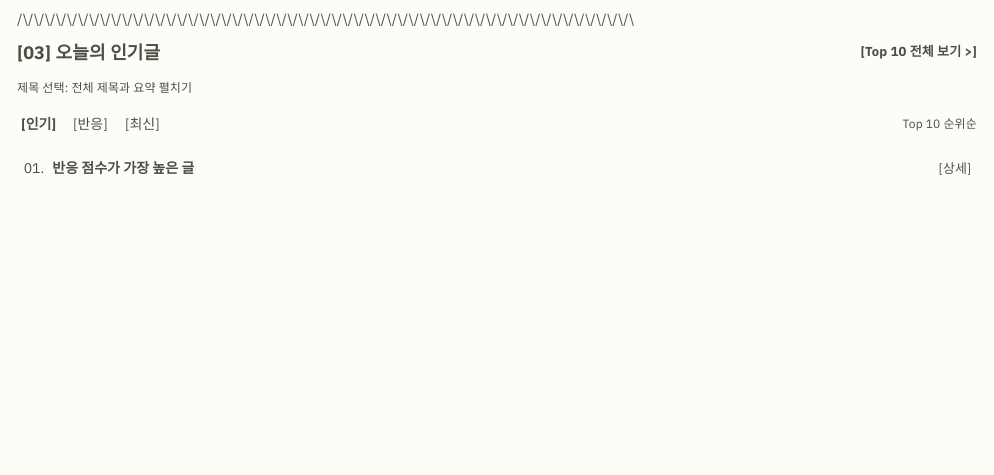
Test: TrendingPostFeed › uses a text-only preview even when a thumbnail is available
The image size is (994, 475).
Click the button "01. 반응 점수가 가장 높은 글".
click(123, 168)  # box [17,146,925,190]
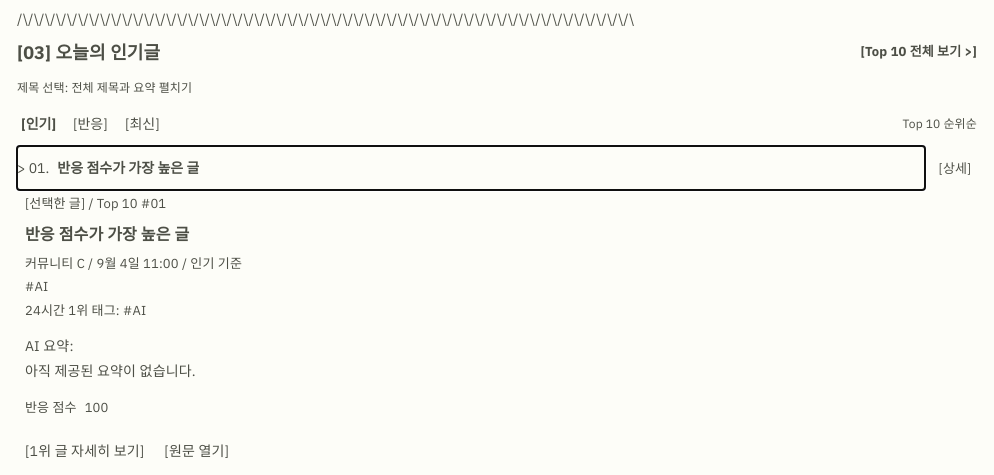
Check: the text "아직 제공된 요약이 없습니다." is shown, box [25,362,196,380]
